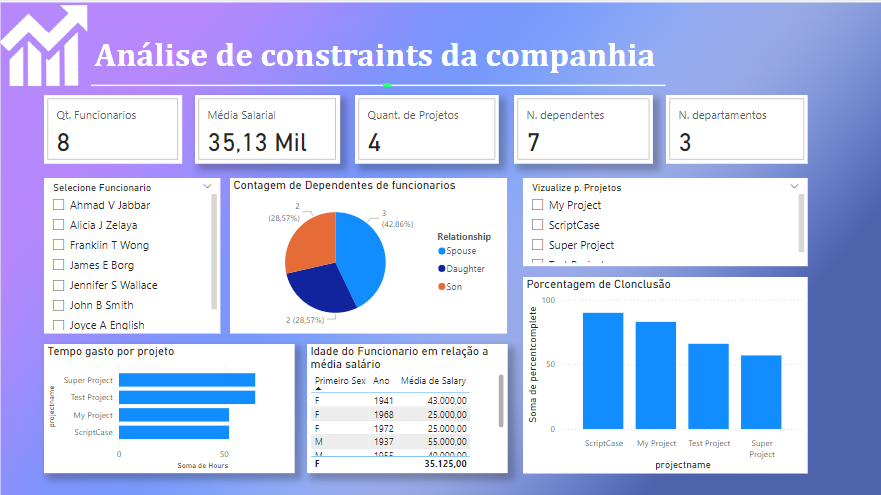

The page's visual inventory and layout, read from the dashboard file:
{"tool":"powerbi","page":{"name":"Página 1","canvas":[1280,720],"ordinal":0},"visuals":[{"type":"image","box":[0,0,1280,720],"z":0},{"type":"image","box":[0,0,135,135],"z":1000},{"type":"shape","box":[135.7,11.4,827.1,225.7],"z":2000},{"type":"textbox","box":[135.7,45.7,1051.4,300],"z":3000},{"type":"cardVisual","fields":{"Data":["Avg(employee.Salary)"]},"box":[285.7,138.6,208.6,98.6],"z":4000},{"type":"tableEx","title":"Idade do Funcionario em relação a média salário","fields":{"Values":["employee.Sex","employee.Bdate.Variation.Hierarquia de datas.Ano","Avg(employee.Salary)"]},"box":[445.7,497.1,288.6,185.7],"z":5000},{"type":"cardVisual","fields":{"Data":["CountNonNull(project.projectid)"]},"box":[515.7,138.6,207.1,98.6],"z":6000},{"type":"barChart","title":"Tempo gasto por projeto","fields":{"Category":["project.projectname"],"Y":["Sum(works_on.Hours)"]},"box":[67.1,497.1,361.4,185.7],"z":7000},{"type":"cardVisual","fields":{"Data":["CountNonNull(dependent.Essn)"]},"box":[744.3,138.6,200,98.6],"z":8000},{"type":"cardVisual","fields":{"Data":["CountNonNull(employee.Name)"]},"box":[67.1,138.6,198.6,98.6],"z":9000},{"type":"pieChart","title":"Contagem de Dependentes de funcionarios","fields":{"Y":["CountNonNull(dependent.Relationship)"],"Category":["dependent.Relationship"]},"box":[335.7,257.1,398.6,224.3],"z":10000},{"type":"clusteredColumnChart","title":"Porcentagem de Clonclusão","fields":{"Category":["project.projectname"],"Y":["Sum(project.percentcomplete)"]},"box":[757.1,400,410,282.9],"z":11000},{"type":"cardVisual","fields":{"Data":["CountNonNull(department.Dname)"]},"box":[962.9,138.6,204.3,98.6],"z":12000},{"type":"slicer","fields":{"Values":["project.projectname"]},"box":[757.1,257.1,410,127.1],"z":12001},{"type":"slicer","fields":{"Values":["employee.Name"]},"box":[67.1,257.1,254.3,224.3],"z":12002}]}

Visuals, with their boxes in screenshot pixels (x1, y1, x2, y2), scaled from the page's 1280x720 canvas onto the 881x495 screenshot:
image: (0, 0, 880, 494)
image: (0, 0, 93, 93)
shape: (93, 8, 663, 163)
textbox: (93, 31, 817, 238)
cardVisual - Avg(employee.Salary): (197, 95, 340, 163)
"Idade do Funcionario em relação a média salário" tableEx: (307, 342, 505, 469)
cardVisual - CountNonNull(project.projectid): (355, 95, 497, 163)
"Tempo gasto por projeto" barChart: (46, 342, 295, 469)
cardVisual - CountNonNull(dependent.Essn): (512, 95, 650, 163)
cardVisual - CountNonNull(employee.Name): (46, 95, 183, 163)
"Contagem de Dependentes de funcionarios" pieChart: (231, 177, 505, 331)
"Porcentagem de Clonclusão" clusteredColumnChart: (521, 275, 803, 469)
cardVisual - CountNonNull(department.Dname): (663, 95, 803, 163)
slicer - project.projectname: (521, 177, 803, 264)
slicer - employee.Name: (46, 177, 221, 331)
